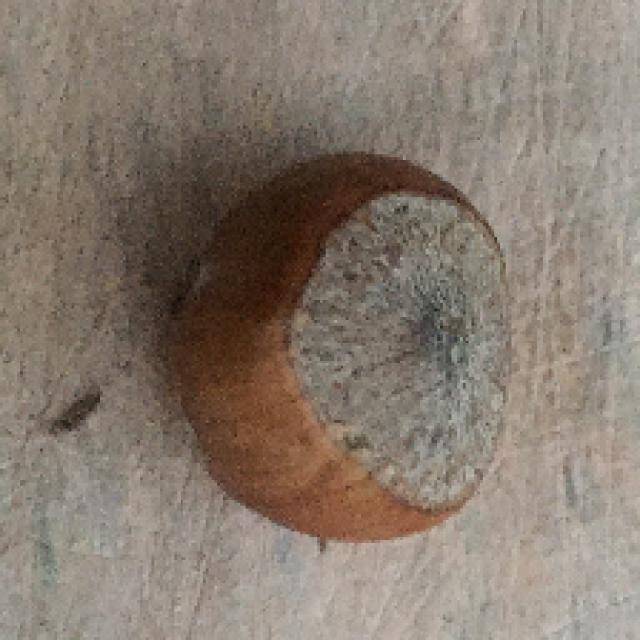damagedHazelnut: (164, 143, 519, 559)
